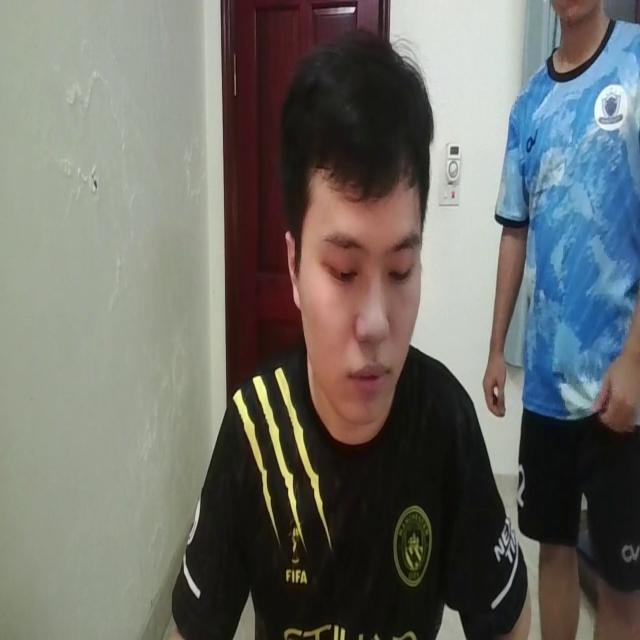extra_person: (483, 0, 640, 640)
student: (171, 37, 530, 640)
